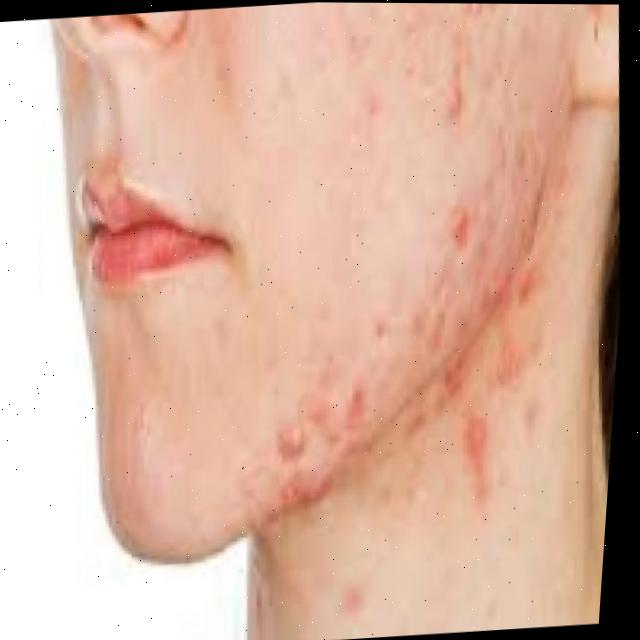Eczema: (247, 2, 619, 583)
